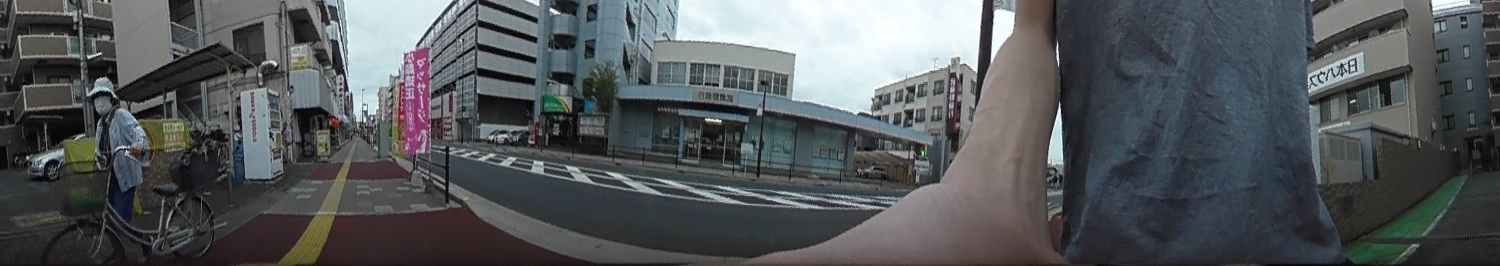person: (80, 72, 143, 257)
